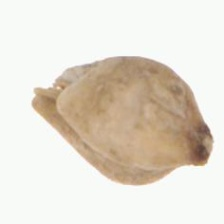L1: (30, 65, 79, 117), (190, 120, 214, 167)
L2: (31, 55, 214, 185)
